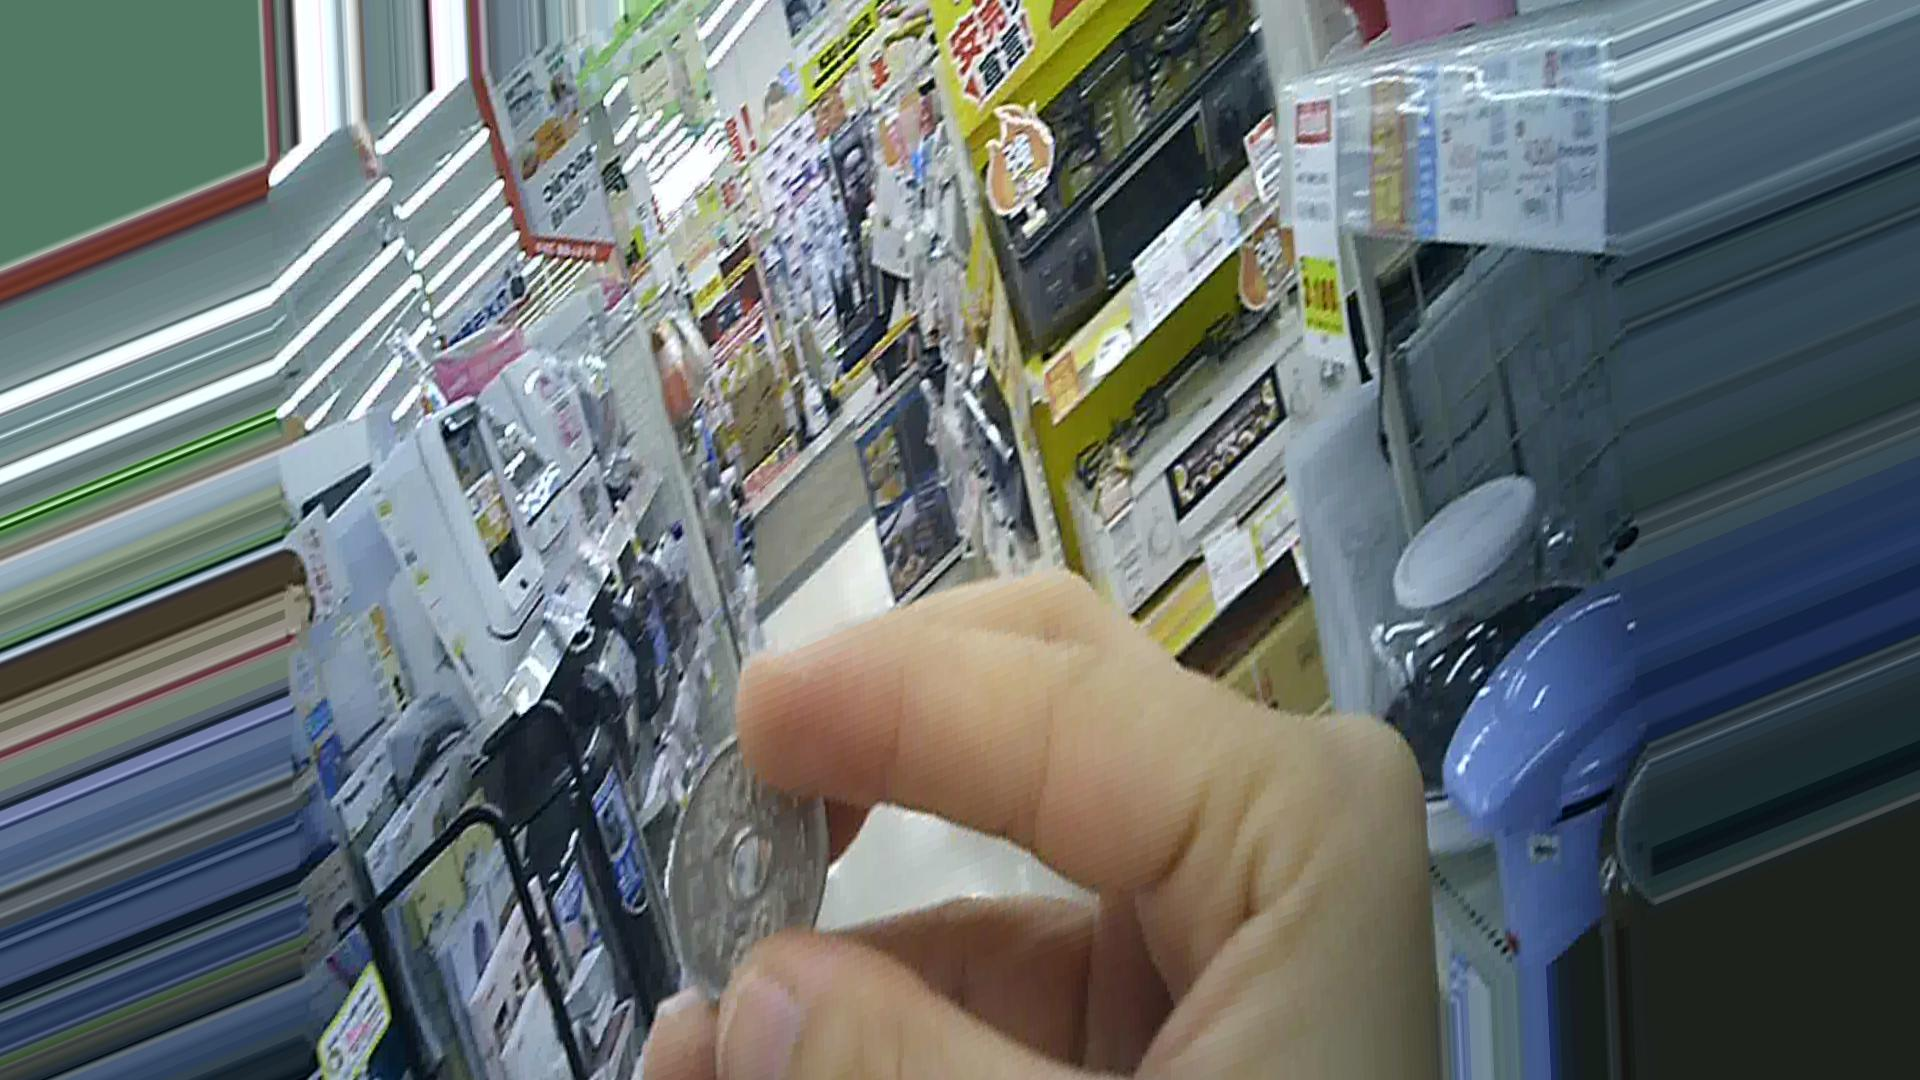50 Yen: (659, 724, 832, 1001)
